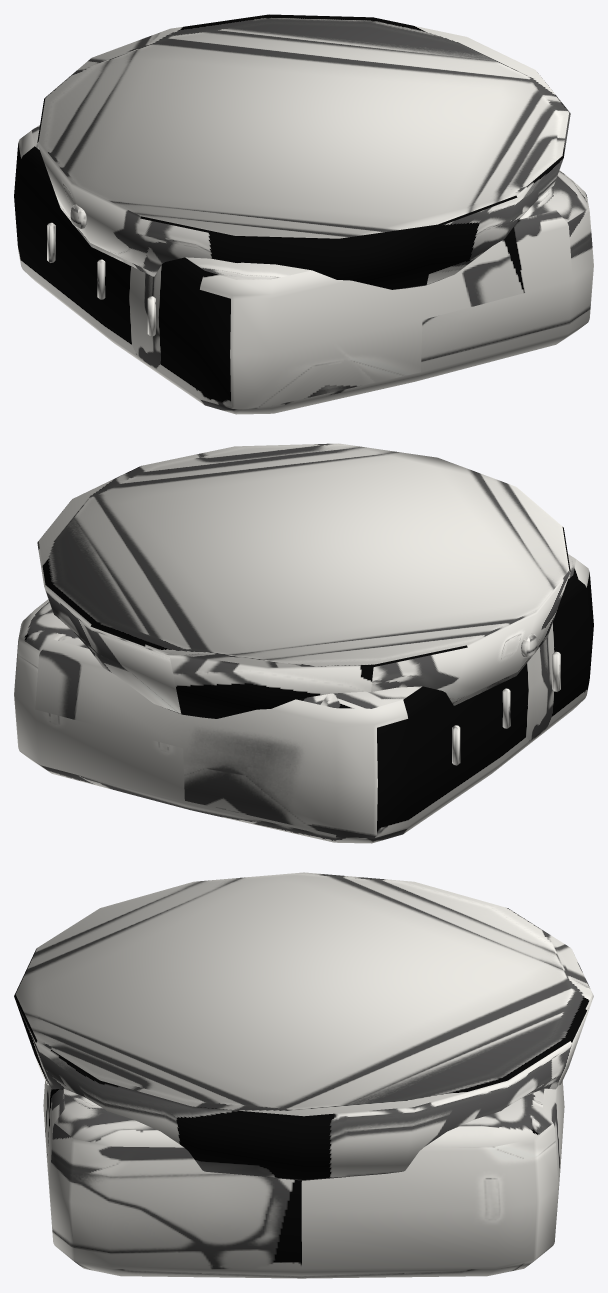
Rendered from Mascarada_GuanteDer.fbx.
The picture shows the model from 3 angles, top to bottom: view 1: azimuth 30°, elevation 25°; view 2: azimuth 150°, elevation 25°; view 3: azimuth 270°, elevation 25°; orthographic projection. The views are drawn at different scales.
Parts seen in each view (by area): view 1: Mascarada_GuanteDer; view 2: Mascarada_GuanteDer; view 3: Mascarada_GuanteDer.
Part boxes in pixels (x1=…): Mascarada_GuanteDer: x1=14, y1=14, x2=593, y2=414; Mascarada_GuanteDer: x1=14, y1=443, x2=593, y2=843; Mascarada_GuanteDer: x1=14, y1=872, x2=593, y2=1278.
Size of the model in its own units: 1.24 by 0.4658 by 1.24.
